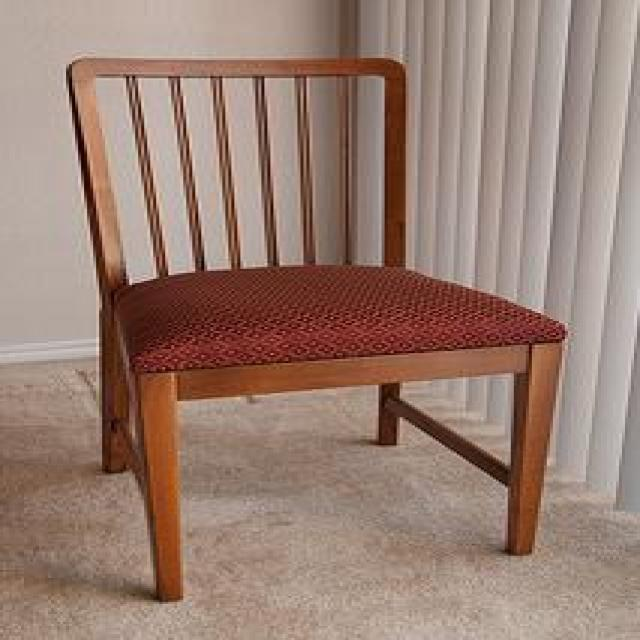chair: (65, 54, 571, 604)
